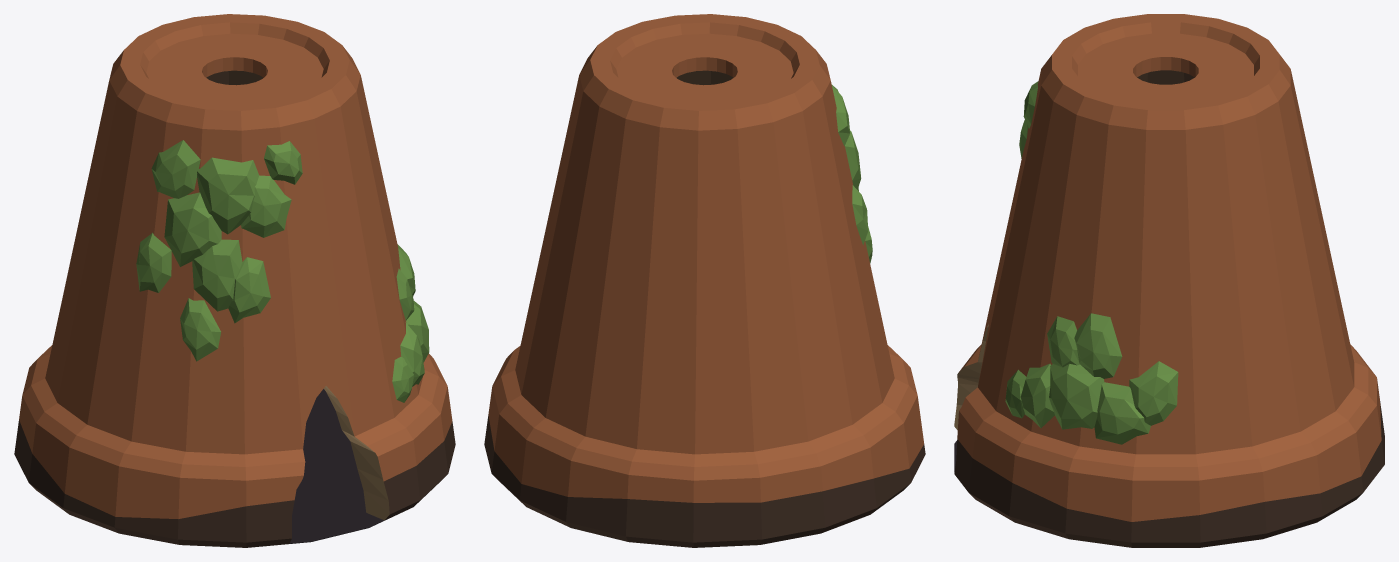
File: upturned-clay-flowerpot-de9221.glb
3 renders of one model, left to right at view 1: azimuth 30°, elevation 25°; view 2: azimuth 150°, elevation 25°; view 3: azimuth 270°, elevation 25°, orthographic.
Visible parts, largest first — view 1: pot; view 2: pot; view 3: pot.
Boxes of the visible parts, x1,y1,x2,y2 form: pot: [14, 14, 455, 547]; pot: [484, 14, 925, 547]; pot: [954, 14, 1384, 547].
Bounding box in the file's own units: 10 × 10 × 9.84.
